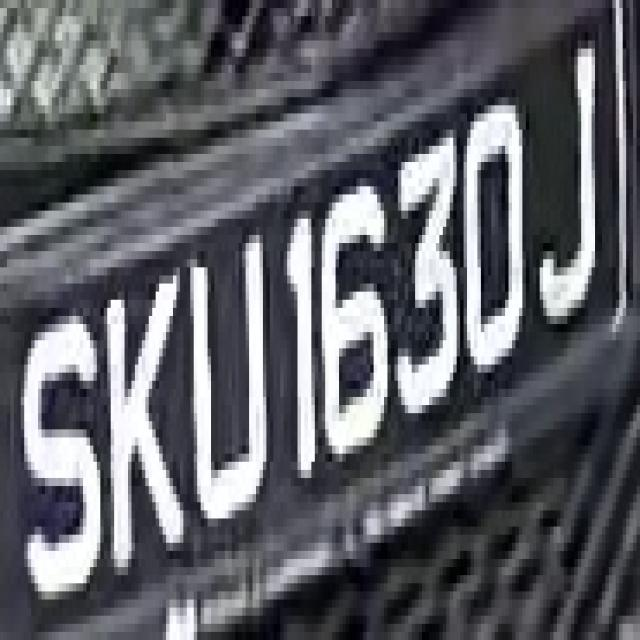0: (446, 105, 526, 397)
1: (280, 203, 322, 502)
3: (394, 113, 454, 454)
6: (315, 162, 405, 470)
J: (540, 24, 605, 324)
K: (104, 267, 187, 559)
S: (14, 300, 107, 608)
U: (190, 243, 274, 543)
